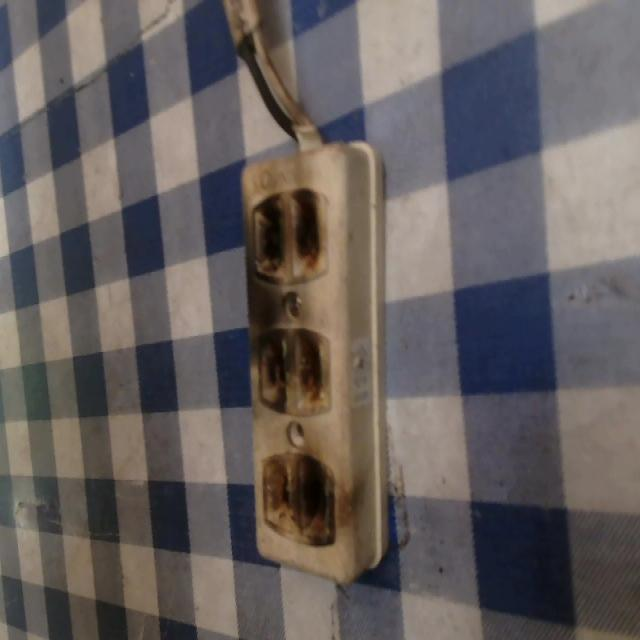-: (247, 180, 328, 284), (258, 448, 337, 547), (254, 322, 334, 414)
